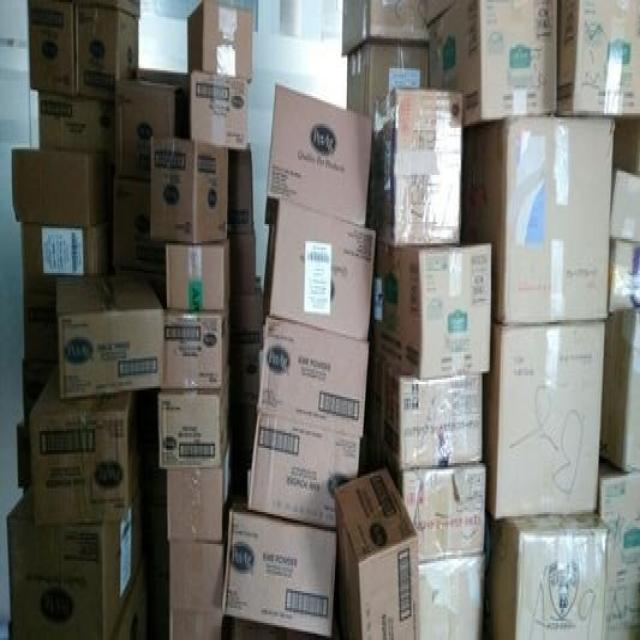box: (460, 117, 615, 322), (482, 322, 604, 521), (5, 486, 142, 640), (30, 361, 138, 525), (429, 0, 557, 130), (262, 196, 377, 339), (485, 512, 609, 640), (222, 499, 336, 638), (264, 83, 372, 226), (366, 87, 462, 245), (334, 467, 420, 640), (55, 271, 163, 399), (257, 314, 369, 437), (247, 407, 360, 527), (401, 241, 491, 380), (384, 365, 482, 471), (556, 0, 640, 117), (390, 461, 486, 563), (150, 134, 227, 243), (12, 147, 113, 226), (598, 454, 640, 640), (114, 77, 184, 181), (157, 367, 229, 467), (20, 218, 113, 292), (167, 437, 233, 540), (600, 309, 640, 469), (347, 41, 429, 117), (420, 553, 484, 640), (76, 9, 139, 96), (185, 0, 251, 81), (163, 307, 229, 388), (169, 529, 227, 614), (342, 0, 427, 58), (114, 177, 166, 271), (38, 92, 114, 156), (229, 275, 263, 410), (165, 241, 231, 309), (26, 0, 73, 94), (191, 73, 249, 149), (379, 245, 402, 367), (109, 565, 146, 640), (228, 147, 255, 239), (229, 405, 256, 495), (23, 292, 58, 358), (139, 68, 190, 113), (609, 239, 640, 311), (23, 356, 56, 422), (611, 166, 640, 239), (234, 619, 330, 640), (365, 356, 384, 446), (169, 608, 222, 640), (231, 233, 256, 294), (614, 119, 640, 175), (370, 243, 383, 352), (77, 0, 142, 17), (139, 269, 166, 305), (17, 422, 30, 486), (11, 627, 72, 640), (427, 0, 456, 23)
